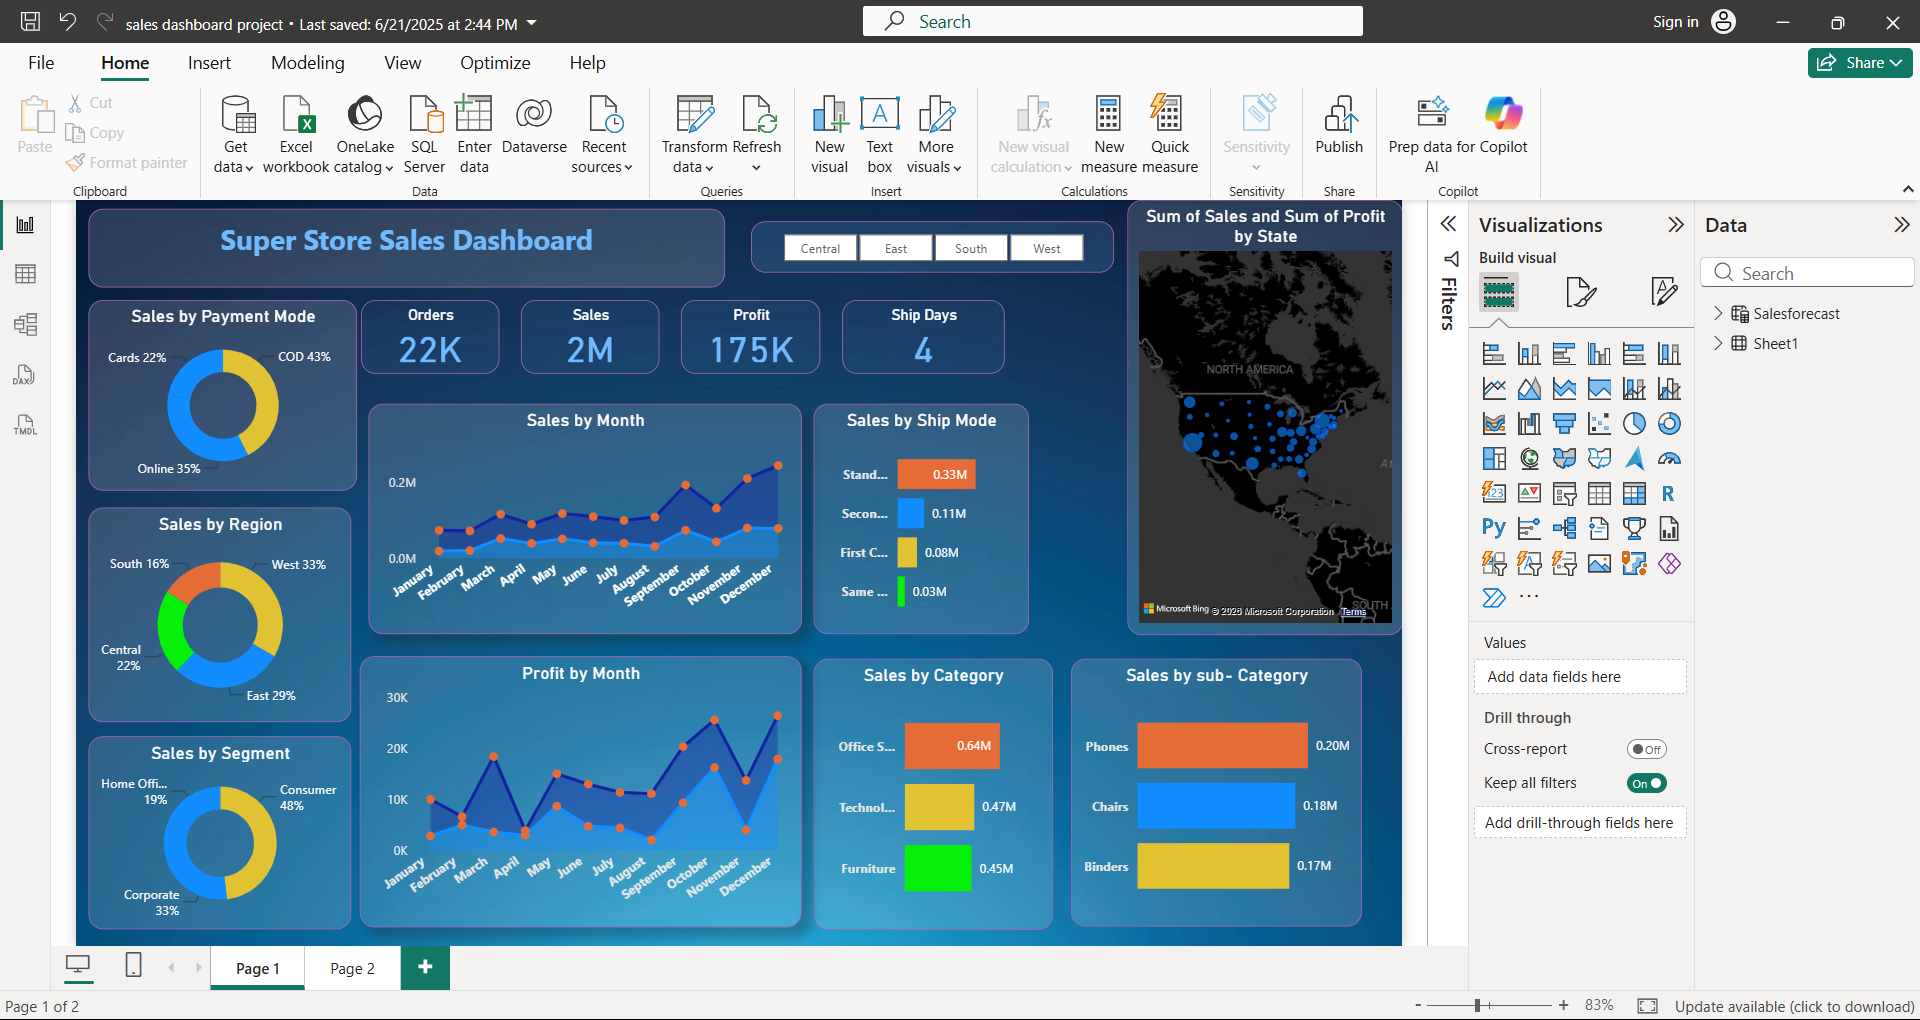

This screenshot's page, from the dashboard's own definition file:
{"tool":"powerbi","page":{"name":"Page 1","canvas":[1280,720],"ordinal":0},"visuals":[{"type":"clusteredBarChart","title":" Sales by Category","fields":{"Category":["Sheet1.Category"],"Y":["Sum(Sheet1.Sales)"]},"box":[712.3,442.8,231,261.3],"z":0},{"type":"clusteredBarChart","title":" Sales by Ship Mode","fields":{"Category":["Sheet1.Ship Mode"],"Y":["Sum(Sheet1.Sales)"]},"box":[712.3,196.6,207.7,222.8],"z":1000},{"type":"clusteredBarChart","title":" Sales by sub- Category","fields":{"Category":["Sheet1.Sub-Category"],"Y":["Sum(Sheet1.Sales)"]},"box":[959.9,442.8,280.5,258.5],"z":2000},{"type":"stackedAreaChart","title":" Sales by Month","fields":{"Y":["Sum(Sheet1.Sales)"],"Category":["Sheet1.Order Date.Variation.Date Hierarchy.Month","Sheet1.Order Date.Variation.Date Hierarchy.Day"],"Series":["Sheet1.Order Date.Variation.Date Hierarchy.Year"]},"box":[281.9,196.6,418.1,222.8],"z":3000},{"type":"stackedAreaChart","title":" Profit by Month","fields":{"Category":["Sheet1.Order Date.Variation.Date Hierarchy.Month","Sheet1.Order Date.Variation.Date Hierarchy.Day"],"Series":["Sheet1.Order Date.Variation.Date Hierarchy.Year"],"Y":["Sum(Sheet1.Profit)"]},"box":[273.7,440.1,426.3,261.3],"z":4000},{"type":"map","fields":{"Category":["Sheet1.State"],"Size":["Sum(Sheet1.Sales)"]},"box":[1014.1,0,266.2,419.9],"z":5000},{"type":"donutChart","title":" Sales by Segment","fields":{"Category":["Sheet1.Segment"],"Y":["Sum(Sheet1.Sales)"]},"box":[12.3,517.3,253.9,186.6],"z":6000},{"type":"donutChart","title":" Sales by Region","fields":{"Category":["Sheet1.Region"],"Y":["Sum(Sheet1.Sales)"]},"box":[12.3,296.4,253.9,207.2],"z":7000},{"type":"donutChart","title":" Sales by Payment Mode","fields":{"Category":["Sheet1.Payment Mode"],"Y":["Sum(Sheet1.Sales)"]},"box":[12.3,96.1,259.3,183.9],"z":8000},{"type":"slicer","fields":{"Values":["Sheet1.Region"]},"box":[651.8,20.6,350.7,49.5],"z":9000},{"type":"textbox","box":[12.4,8.3,614.7,75.6],"z":10000},{"type":"card","title":"Sales","fields":{"Values":["Sum(Sheet1.Sales)"]},"box":[429.1,96.3,133.4,71.5],"z":11000},{"type":"card","title":"Orders","fields":{"Values":["Sum(Sheet1.Quantity)"]},"box":[275,96.3,133.4,71.5],"z":12000},{"type":"card","title":"Profit","fields":{"Values":["Sum(Sheet1.Profit)"]},"box":[584.4,96.3,134.8,71.5],"z":13000},{"type":"card","title":"Ship Days","fields":{"Values":["Avg(Sheet1.AvgDelivery)"]},"box":[739.8,96.3,156.8,71.5],"z":14000}]}

Visuals, with their boxes on the page's 1280x720 design canvas (x1, y1, x2, y2). These are canvas units, not pixel positions in the 1920x1020 screenshot, which may show the page scaled, cropped or inside an application window:
" Sales by Category" clusteredBarChart: [left=712, top=443, right=943, bottom=704]
" Sales by Ship Mode" clusteredBarChart: [left=712, top=197, right=920, bottom=419]
" Sales by sub- Category" clusteredBarChart: [left=960, top=443, right=1240, bottom=701]
" Sales by Month" stackedAreaChart: [left=282, top=197, right=700, bottom=419]
" Profit by Month" stackedAreaChart: [left=274, top=440, right=700, bottom=701]
map - Sheet1.State x Sum(Sheet1.Sales): [left=1014, top=0, right=1280, bottom=420]
" Sales by Segment" donutChart: [left=12, top=517, right=266, bottom=704]
" Sales by Region" donutChart: [left=12, top=296, right=266, bottom=504]
" Sales by Payment Mode" donutChart: [left=12, top=96, right=272, bottom=280]
slicer - Sheet1.Region: [left=652, top=21, right=1002, bottom=70]
textbox: [left=12, top=8, right=627, bottom=84]
"Sales" card: [left=429, top=96, right=562, bottom=168]
"Orders" card: [left=275, top=96, right=408, bottom=168]
"Profit" card: [left=584, top=96, right=719, bottom=168]
"Ship Days" card: [left=740, top=96, right=897, bottom=168]
